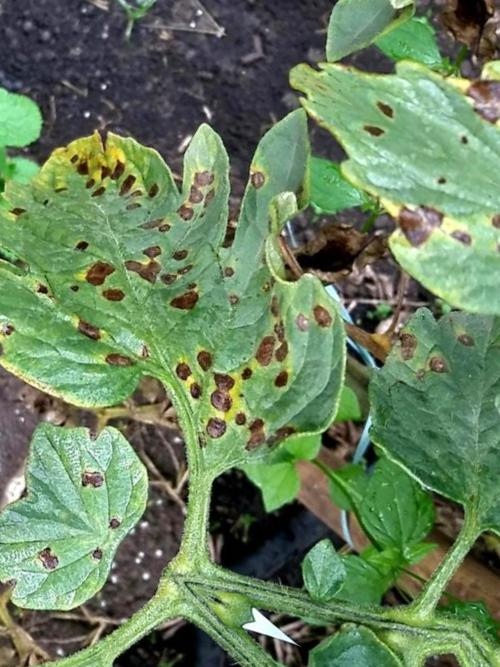Tomato Early blight leaf: (0, 0, 446, 488), (319, 257, 500, 559)
